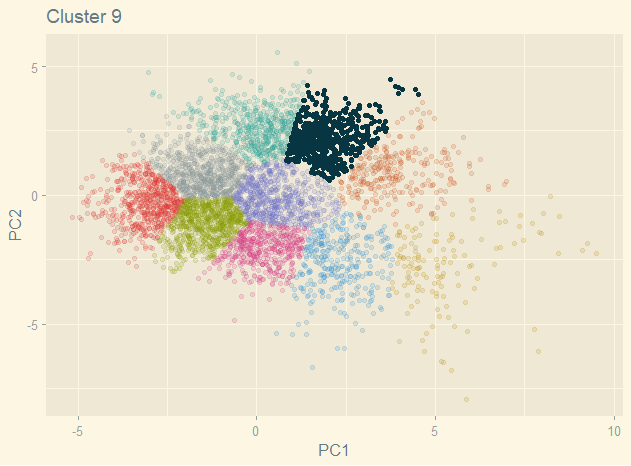

This screenshot's page, from the dashboard's own definition file:
{"tool":"tableau","page":{"name":"Dashboard 1","canvas":[800,800],"ordinal":0},"visuals":[{"type":"worksheet","title":"Sheet 1","mark":"Automatic","rows":["LOC_Y"],"cols":["LOC_X"],"box":[8,8,624,784]},{"type":"legend","title":"Sheet 1","param":"[federated.03dq9x01td4w500zwbh3a0a7gqdi].[none:SHOT_MADE_FLAG:ok]","box":[632,8,160,72]}]}

Visuals, with their boxes on the page's 800x800 design canvas (x1, y1, x2, y2). These are canvas units, not pixel positions in the 631x466 screenshot, which may show the page scaled, cropped or inside an application window:
"Sheet 1" worksheet: crop(8, 8, 632, 792)
"Sheet 1" legend: crop(632, 8, 792, 80)
